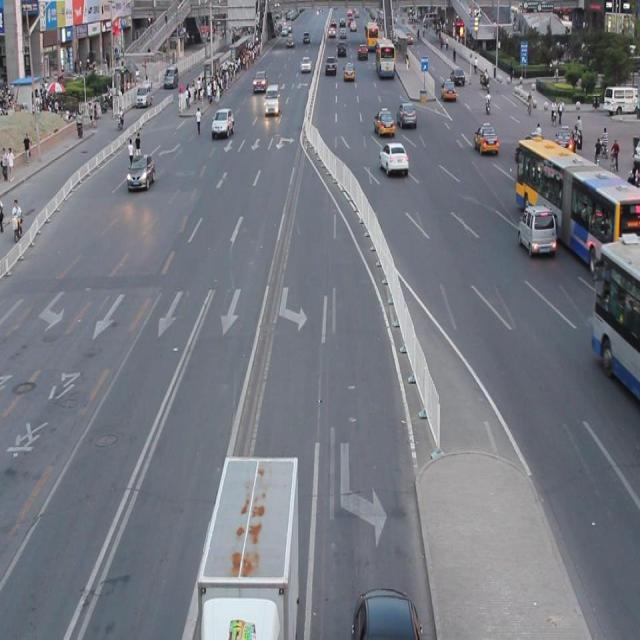bus: (196, 455, 299, 640)
car: (350, 586, 421, 640), (518, 203, 556, 256), (127, 153, 155, 191)
van: (516, 139, 640, 270), (591, 240, 640, 400)
